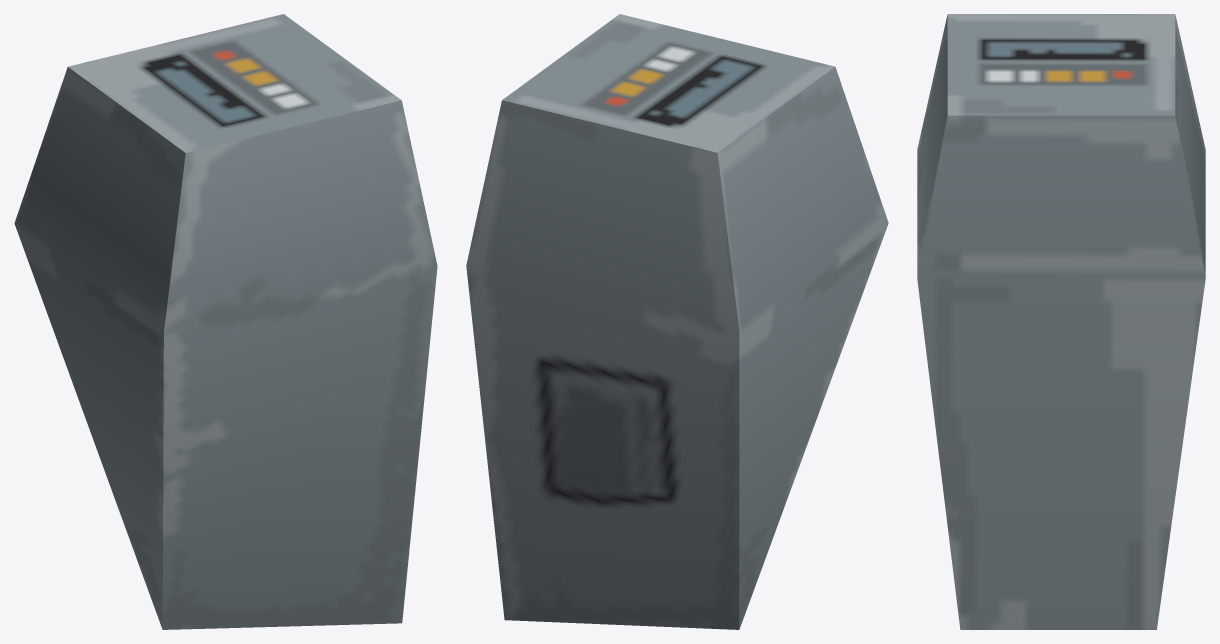
3 views of the same model, side by side, from view 1: azimuth 30°, elevation 25°; view 2: azimuth 150°, elevation 25°; view 3: azimuth 270°, elevation 25° (orthographic). The views are drawn at different scales.
Parts seen in each view (by area): view 1: Box001; view 2: Box001; view 3: Box001.
Boxes of the visible parts, bbox=[...] form: Box001: bbox=[14, 14, 437, 629]; Box001: bbox=[466, 14, 888, 629]; Box001: bbox=[917, 14, 1205, 629].
Size of the model in its own units: 23.64 by 43.71 by 22.36.
Materials: 1 (1 with a texture image).
